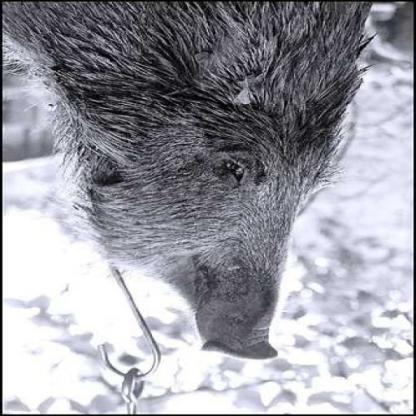boar: (90, 1, 362, 376)
